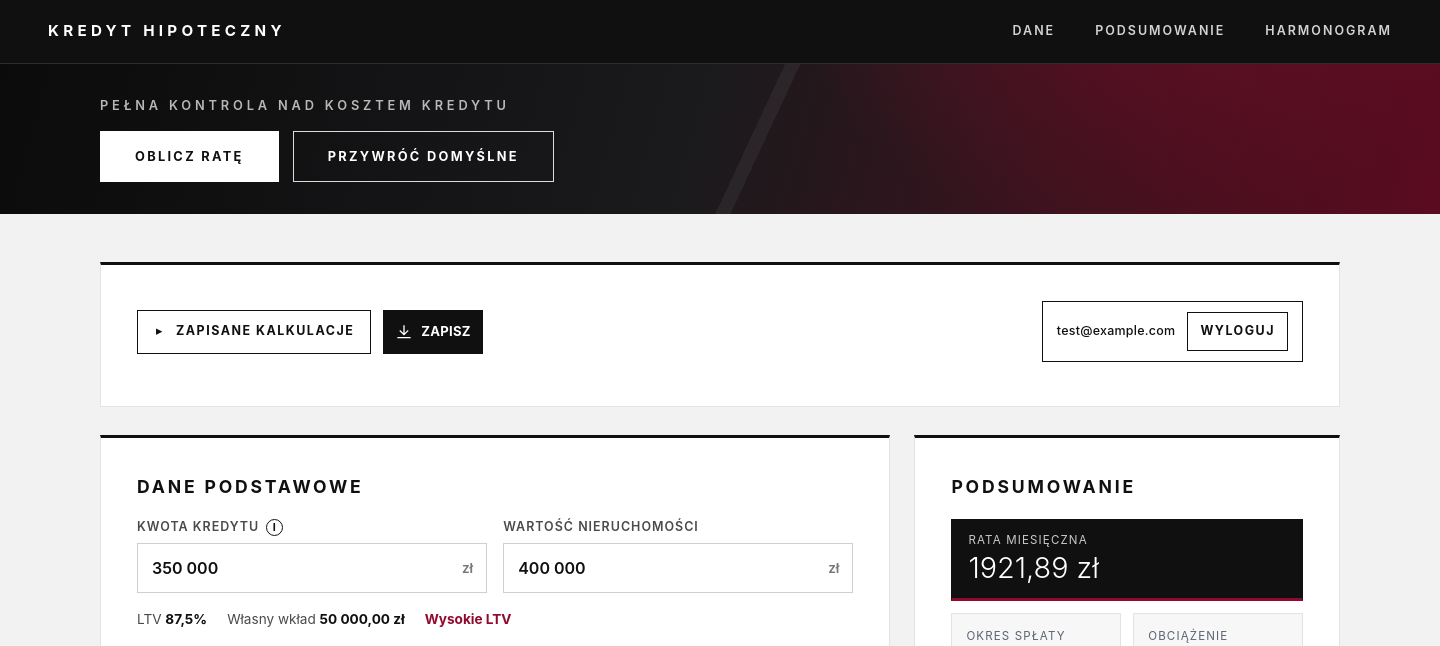
Scenario: save button behavior › shows unsaved changes and overwrites only the payload of the loaded calculation
Click the button "▸ Zapisane kalkulacje".
click(254, 332)  # box [137,310,371,354]
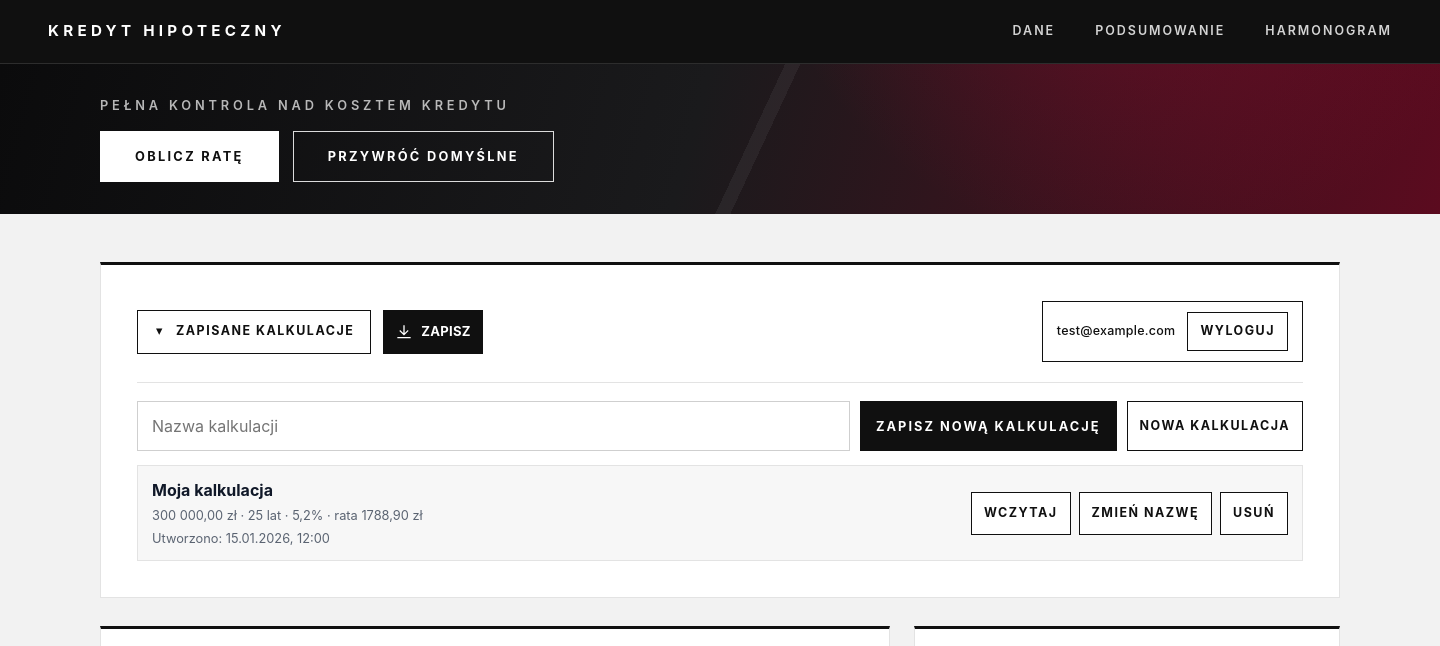
Check: the field with placeholder "Nazwa kalkulacji" is shown, box [137,401,850,451]
Click the button "Wczytaj".
click(1021, 513)  # box [971,492,1071,535]
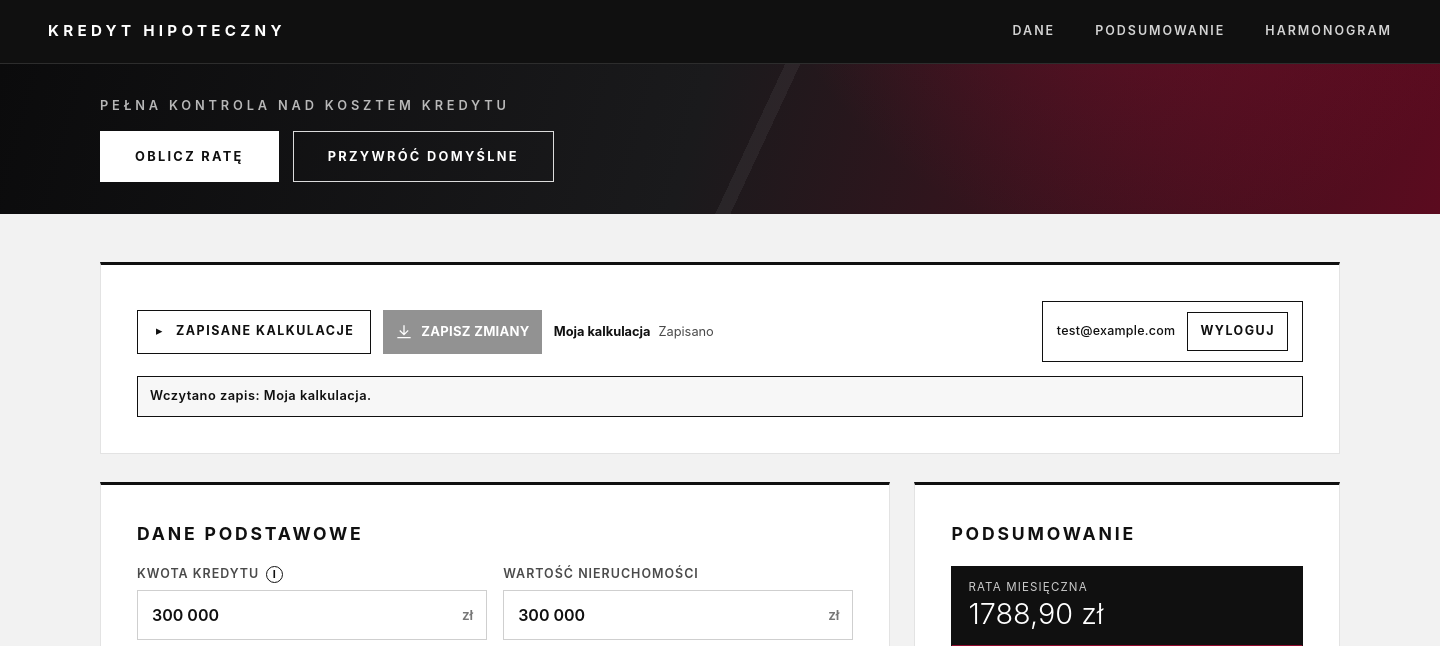
Check: the message with class "save-status" shows "Moja kalkulacja", box [554,324,650,339]
Replace the text in the field labelled "Kwota kredytu i" with "400000" at (312, 615), box [137,590,487,640]
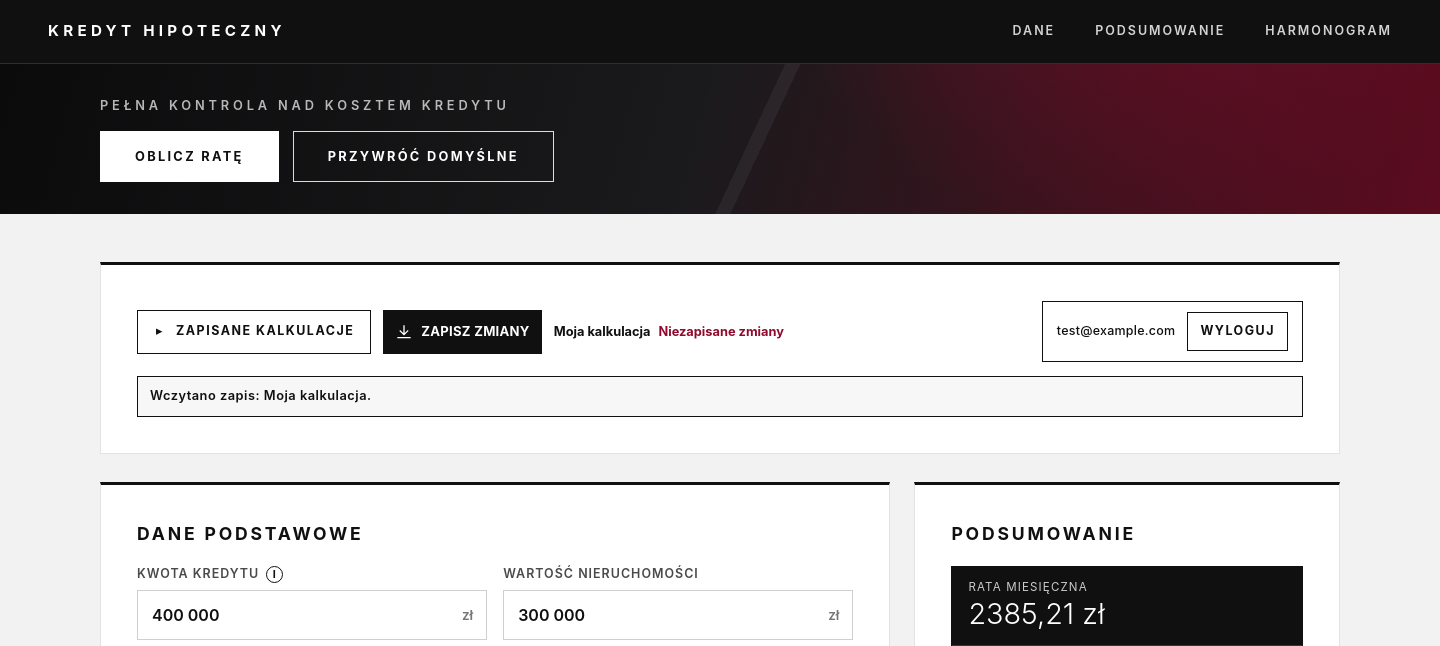
Check: the message with class "save-status" shows "Niezapisane zmiany", box [658,324,784,339]
Click the button with class "save-disk-button".
click(462, 332)  # box [383,310,542,354]
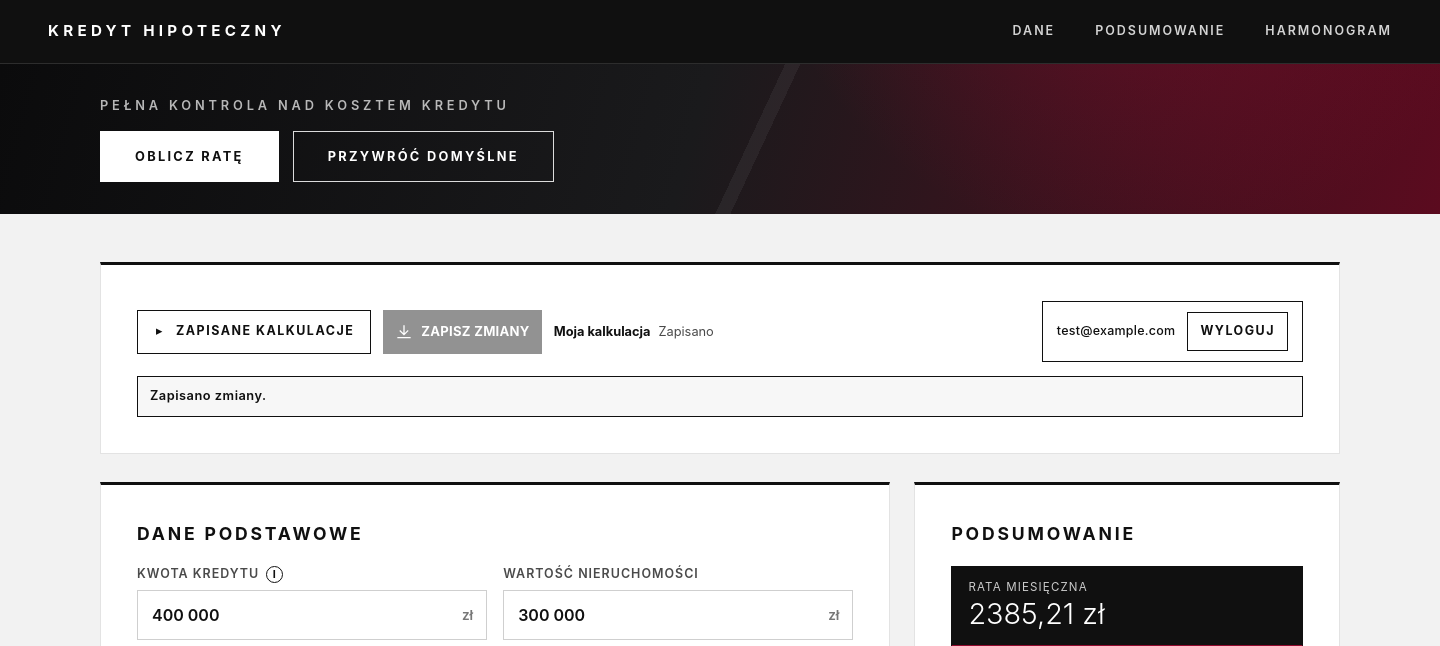
Check: the message with class "save-status" shows "Zapisano", box [658,324,714,339]
